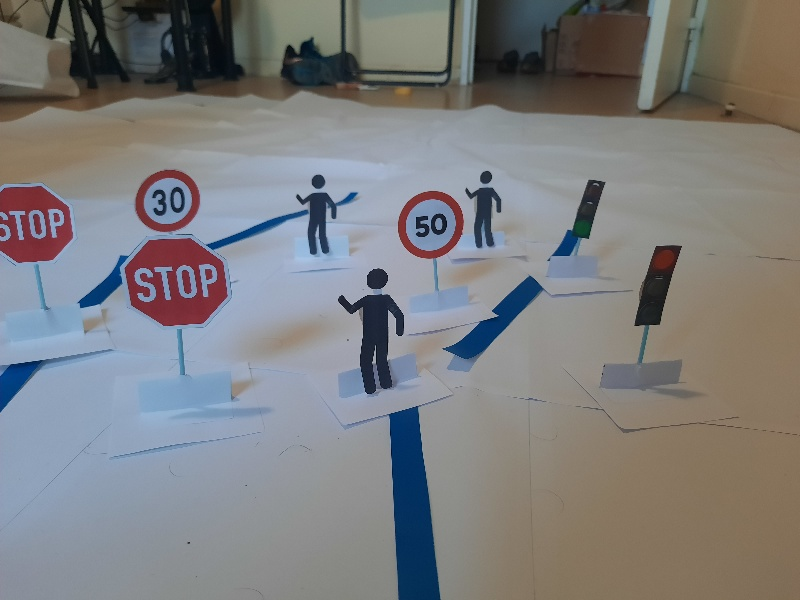Green: (571, 175, 605, 243)
Limit 30: (136, 169, 202, 231)
Limit 50: (397, 190, 464, 259)
Person: (337, 267, 403, 396), (292, 171, 340, 256), (462, 167, 503, 249)
Red: (634, 244, 680, 327)
Stop: (121, 233, 232, 330), (1, 183, 74, 269)
